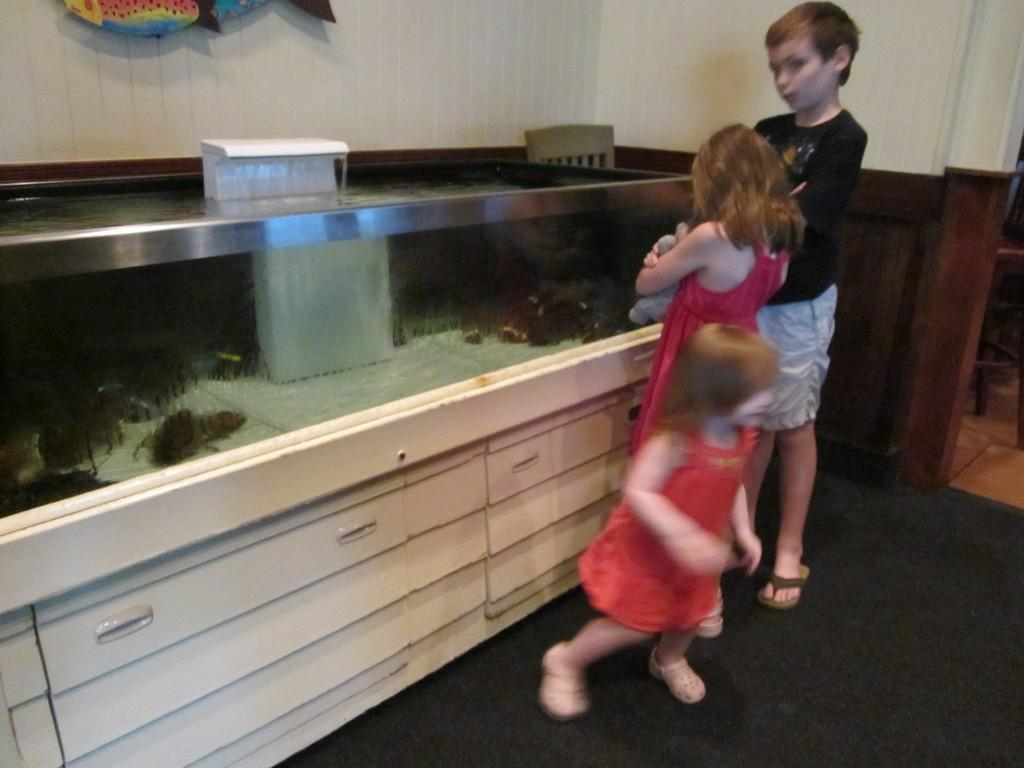handle: (91, 604, 156, 632), (327, 514, 379, 548), (504, 449, 538, 469)
